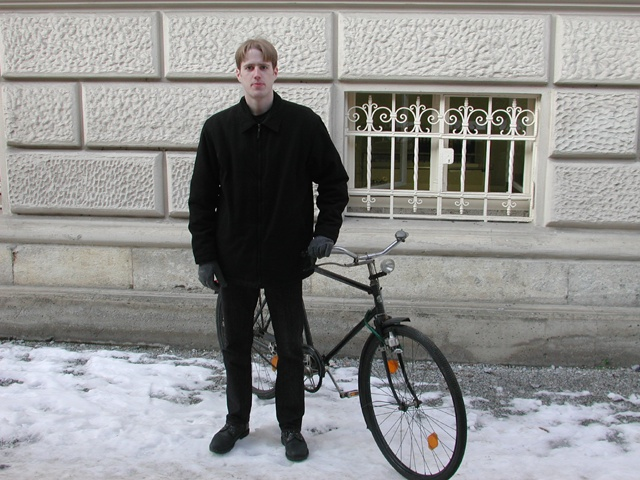person: (180, 35, 351, 458)
